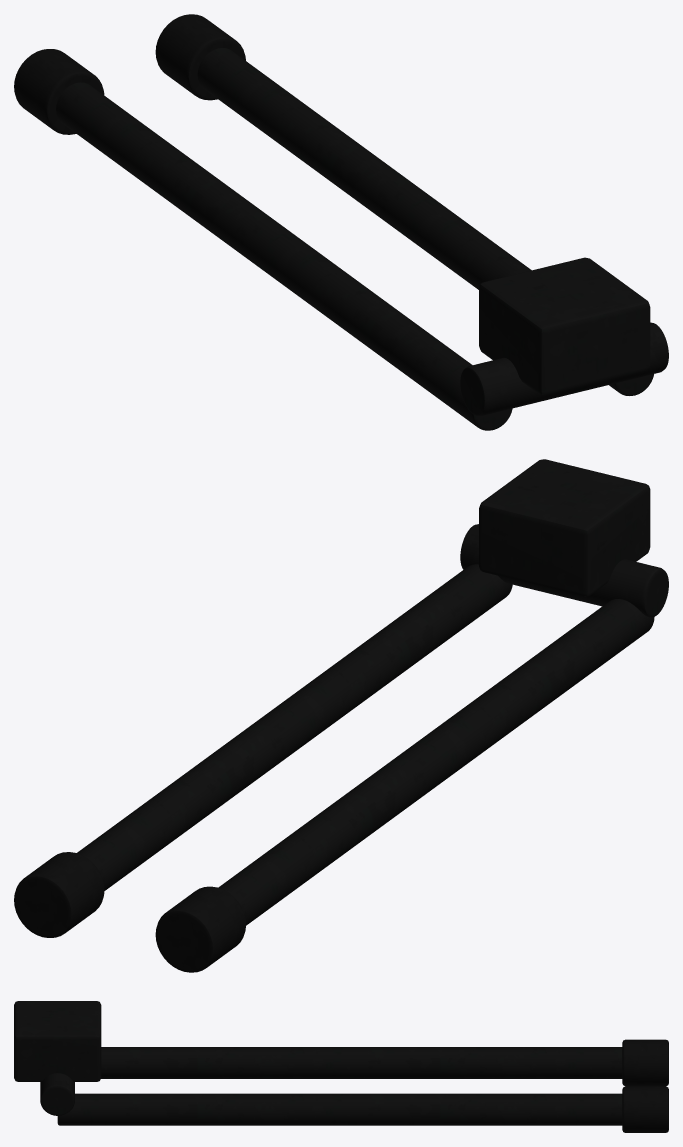
File: bipod.gltf
3 renders of one model, top to bottom at view 1: azimuth 30°, elevation 25°; view 2: azimuth 150°, elevation 25°; view 3: azimuth 270°, elevation 25°, orthographic. The views are drawn at different scales.
Parts seen in each view (by area): view 1: Body; view 2: Body; view 3: Body.
Part boxes in pixels (x1=…): Body: x1=14, y1=14, x2=668, y2=430; Body: x1=14, y1=459, x2=668, y2=972; Body: x1=14, y1=1001, x2=668, y2=1132.
Bounding box in the file's own units: 0.054 × 0.034 × 0.225.
Materials: 2 (2 with a texture image).
